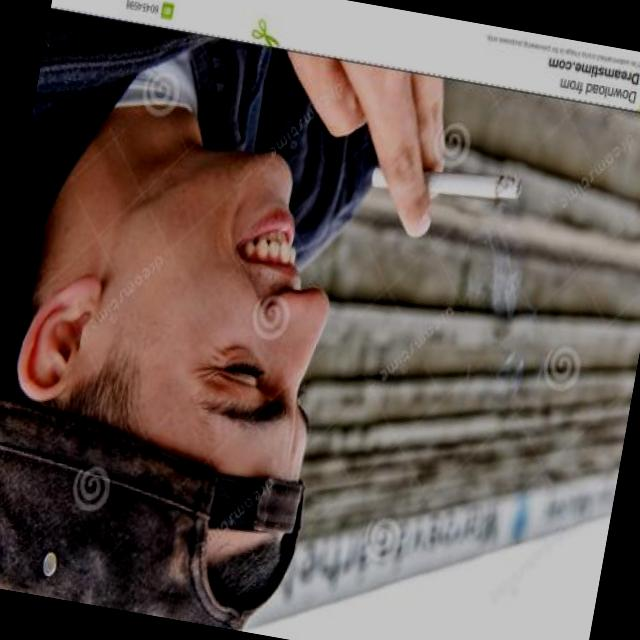smoke: (368, 150, 525, 212)
